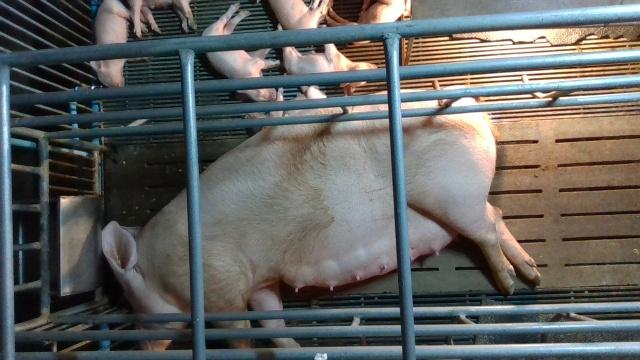piglet: (201, 3, 279, 103), (283, 42, 377, 92), (86, 0, 133, 88), (325, 0, 411, 45), (265, 0, 334, 29)
sow-sleep-lactate: (99, 88, 541, 351)
